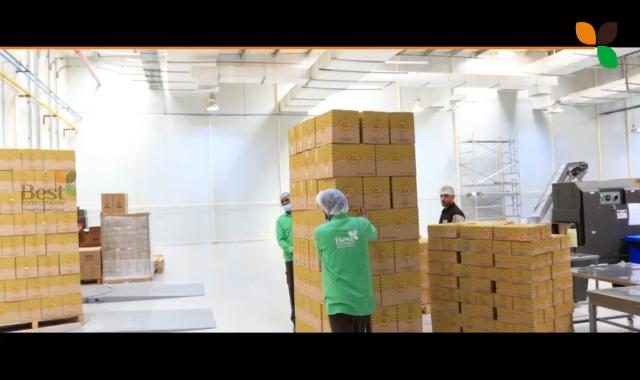hairnet: (278, 189, 290, 200)
